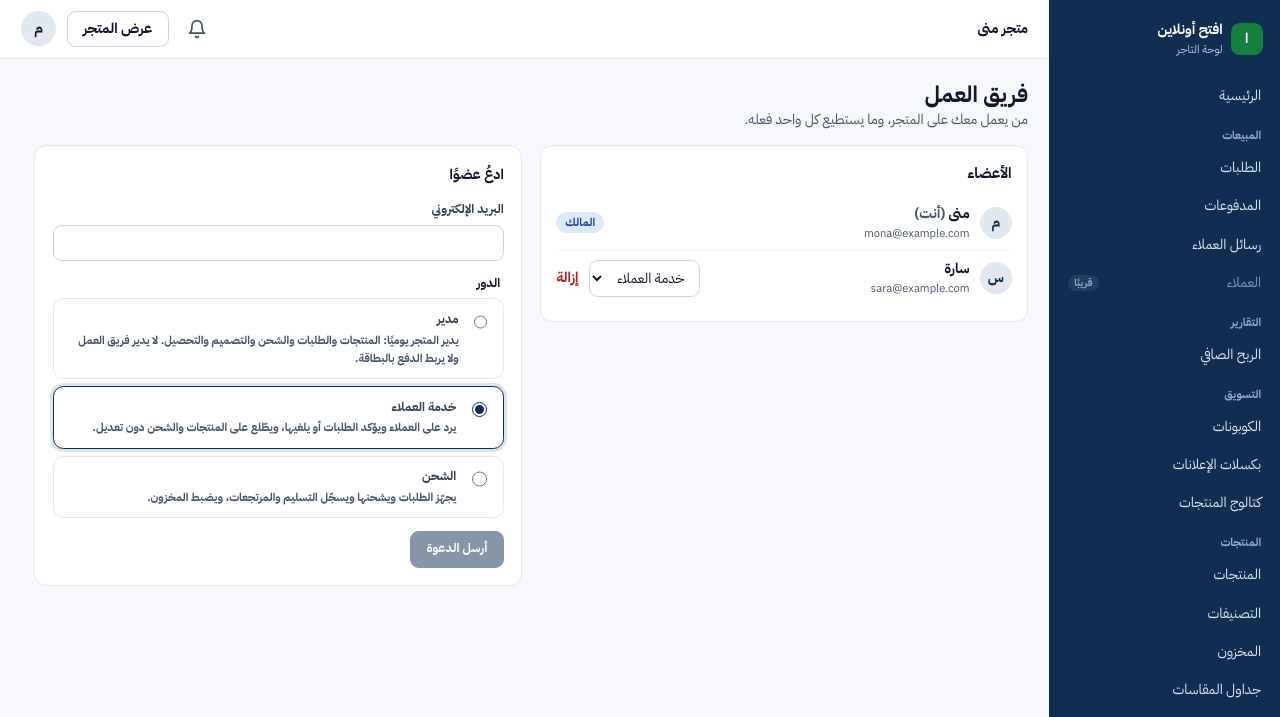
Test: Team › invites by email with a described role, changes a role, removes and revokes
This screenshot has width=1280, height=717.
Expected: the text "المالك" is shown, top-left (556, 212), bottom-right (604, 233)
Expected: the 2nd radio button is checked, top-left (472, 402), bottom-right (487, 417)
Type "ali@example.com" into the field labelled "البريد الإلكتروني" at (278, 243), box top-left (52, 225), bottom-right (504, 261)
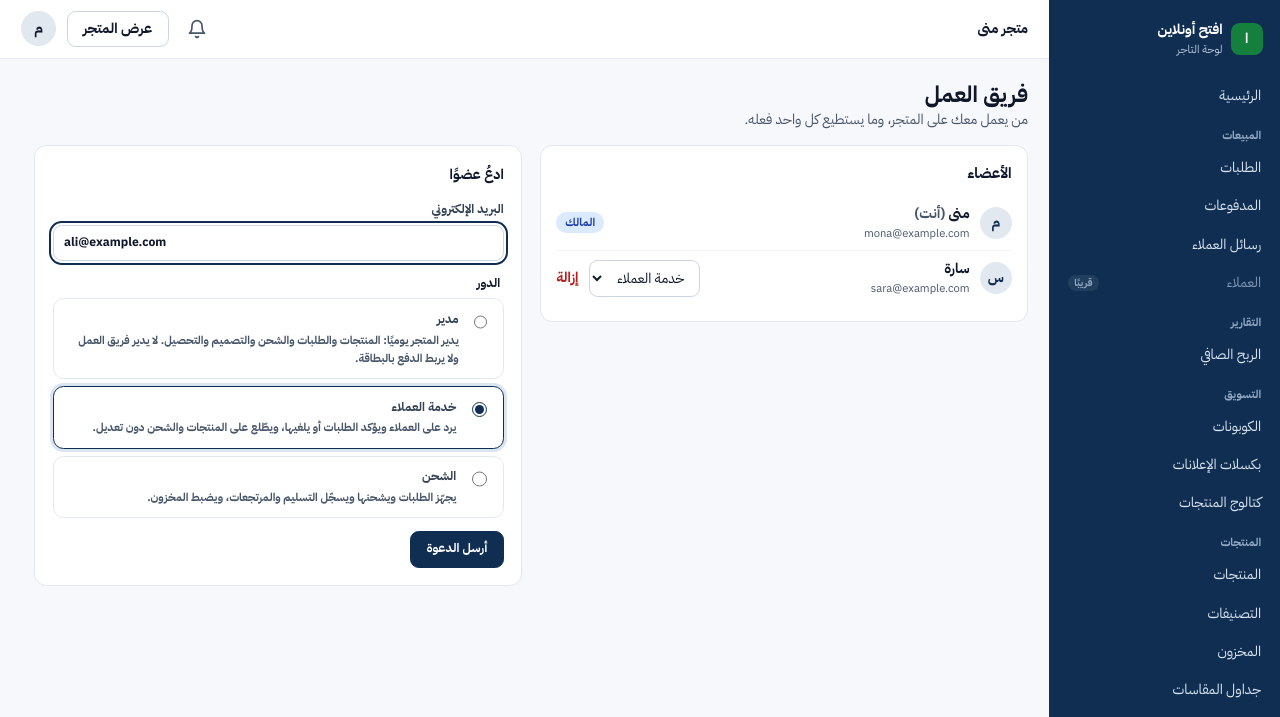
Click the radio button labelled "مدير" at (481, 322), box top-left (474, 314), bottom-right (487, 330)
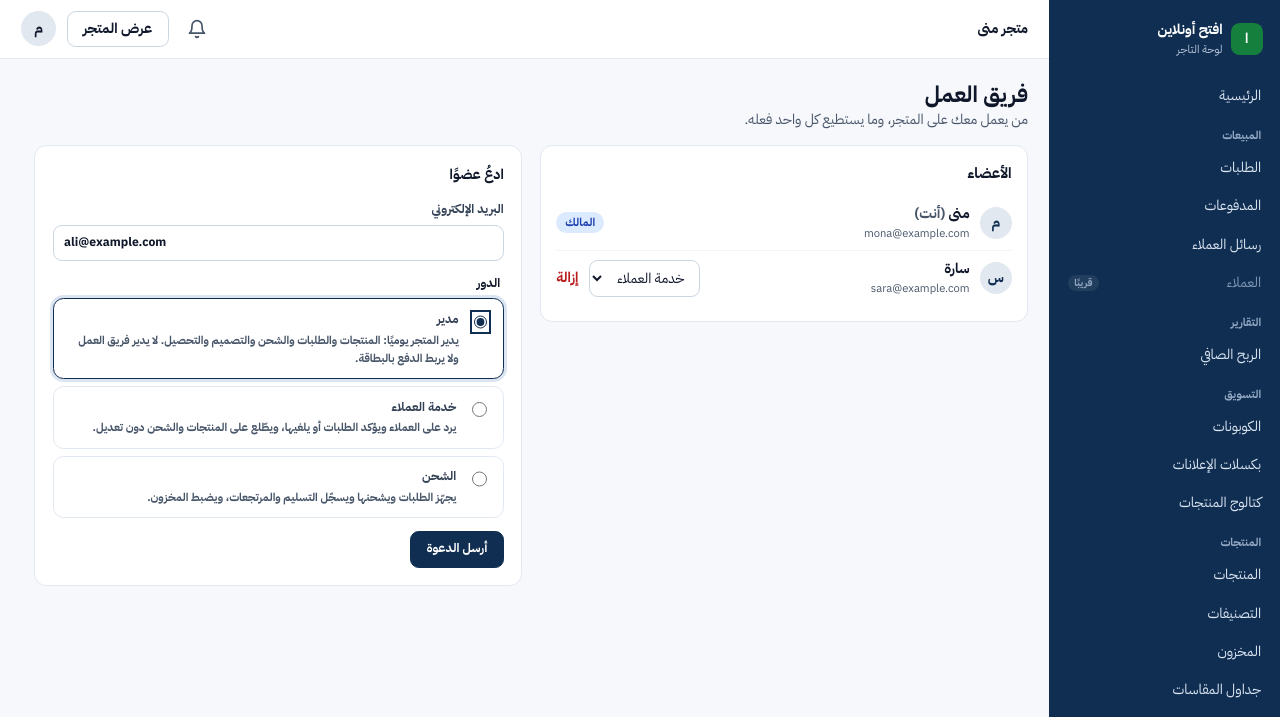
Click the button "أرسل الدعوة" at (457, 549), box top-left (410, 531), bottom-right (504, 568)
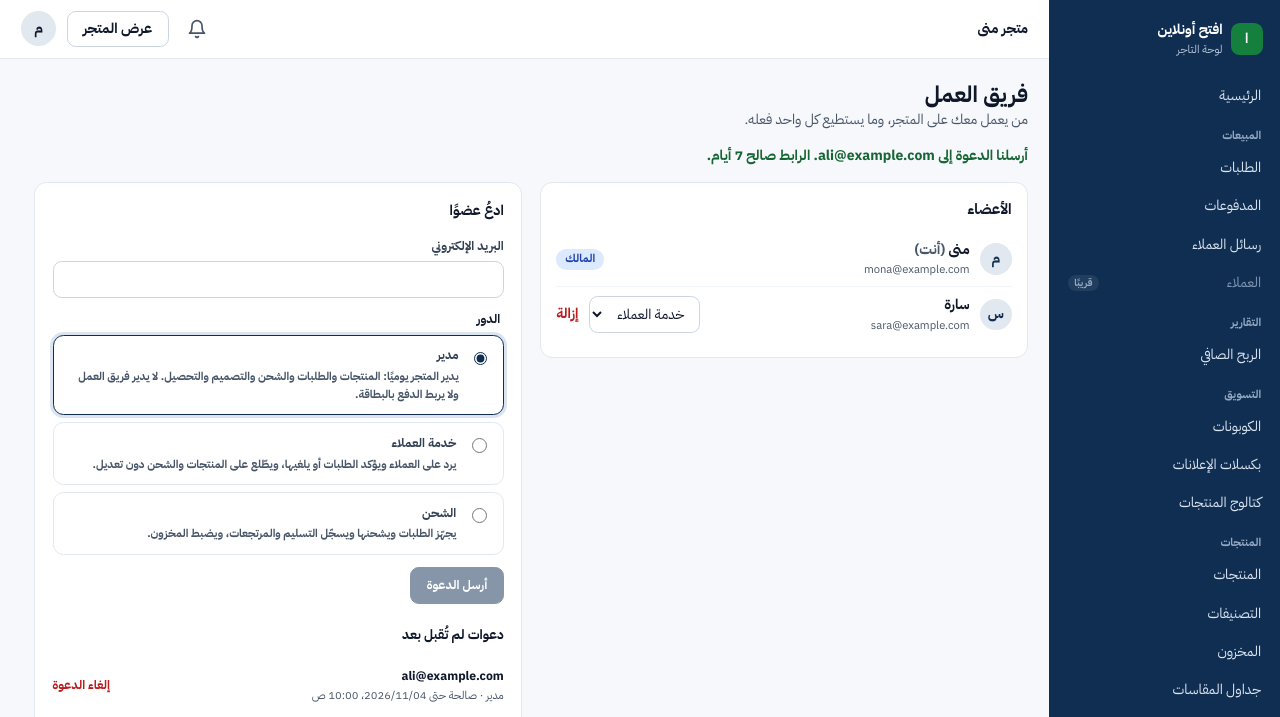
Now the text "أرسلنا الدعوة إلى ali@example.com. الرابط صالح 7 أيام." is shown, box top-left (707, 145), bottom-right (1028, 166)
Now the heading "دعوات لم تُقبل بعد" is shown, box top-left (402, 625), bottom-right (504, 645)
Select "الشحن" in the dropdown named "دور سارة" at (644, 315), box top-left (589, 296), bottom-right (700, 333)
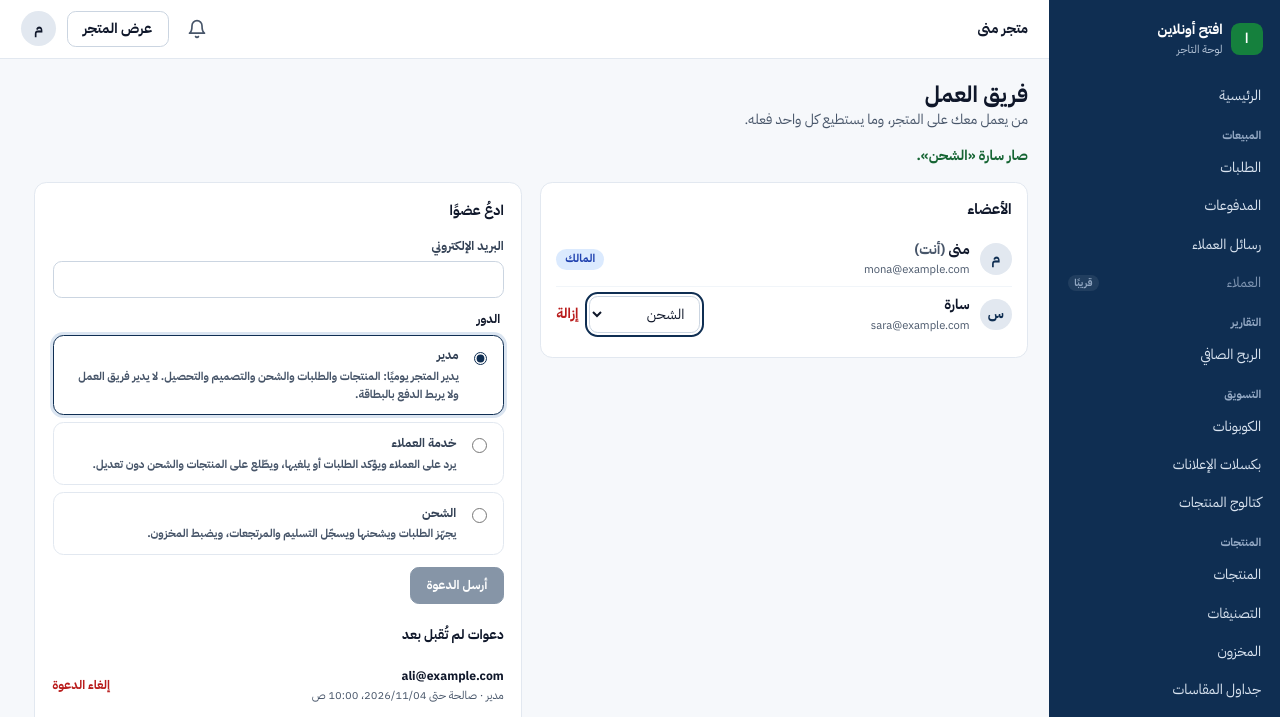
Click the button "إزالة" at (567, 314), box top-left (556, 303), bottom-right (578, 326)
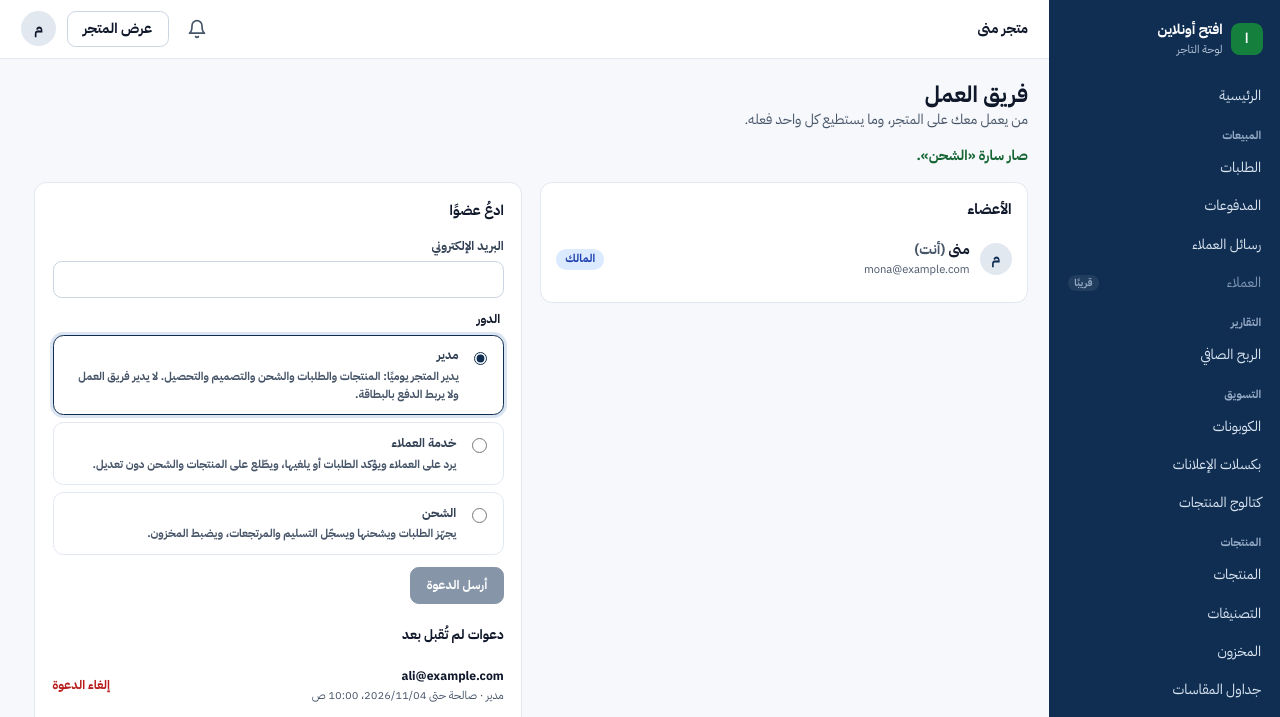
Click the button "إلغاء الدعوة" at (81, 686), box top-left (52, 676), bottom-right (110, 696)
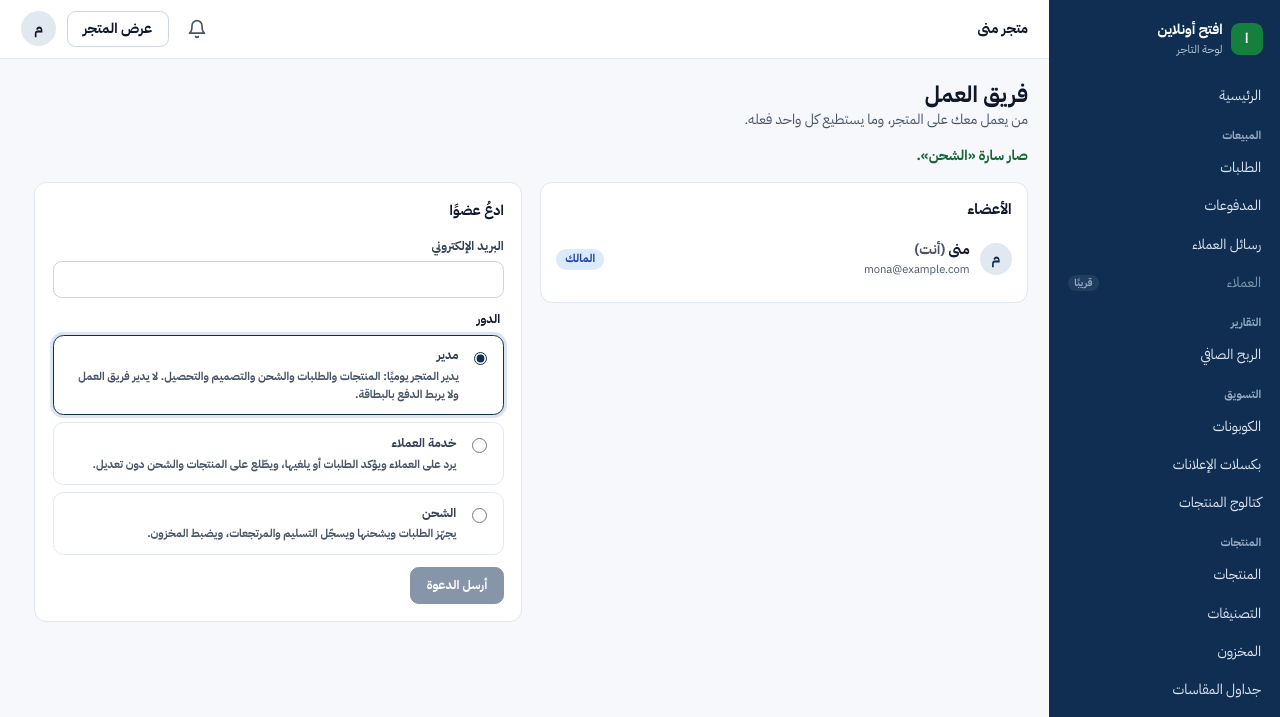
Now the heading "دعوات لم تُقبل بعد" is gone
